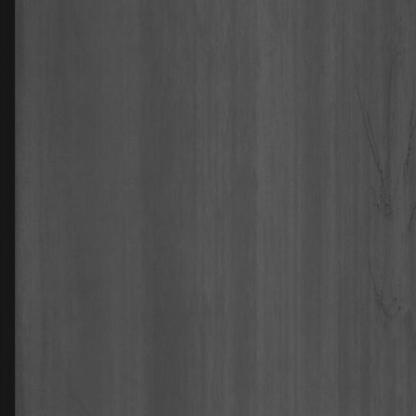water_spot: (358, 63, 416, 326)
